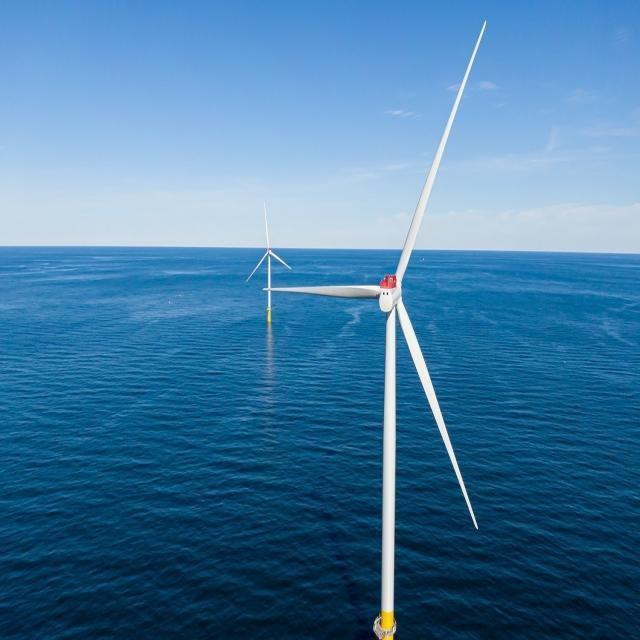solid-blade: (395, 21, 486, 286), (396, 298, 478, 528), (271, 285, 381, 298)
wind-turbine: (271, 22, 486, 640)
